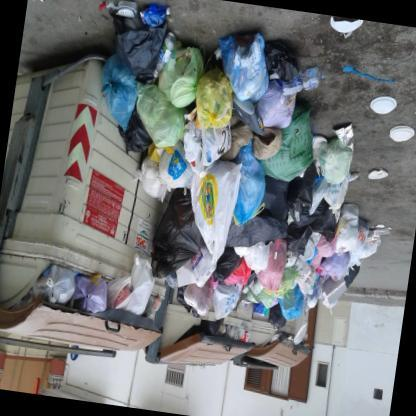Garbage: (114, 0, 378, 185), (163, 89, 356, 321), (217, 160, 382, 305), (278, 198, 413, 338), (93, 0, 188, 138), (318, 68, 415, 203), (130, 138, 196, 206), (254, 234, 290, 297), (258, 230, 292, 290), (321, 240, 357, 285), (215, 284, 245, 320), (300, 268, 320, 303)
